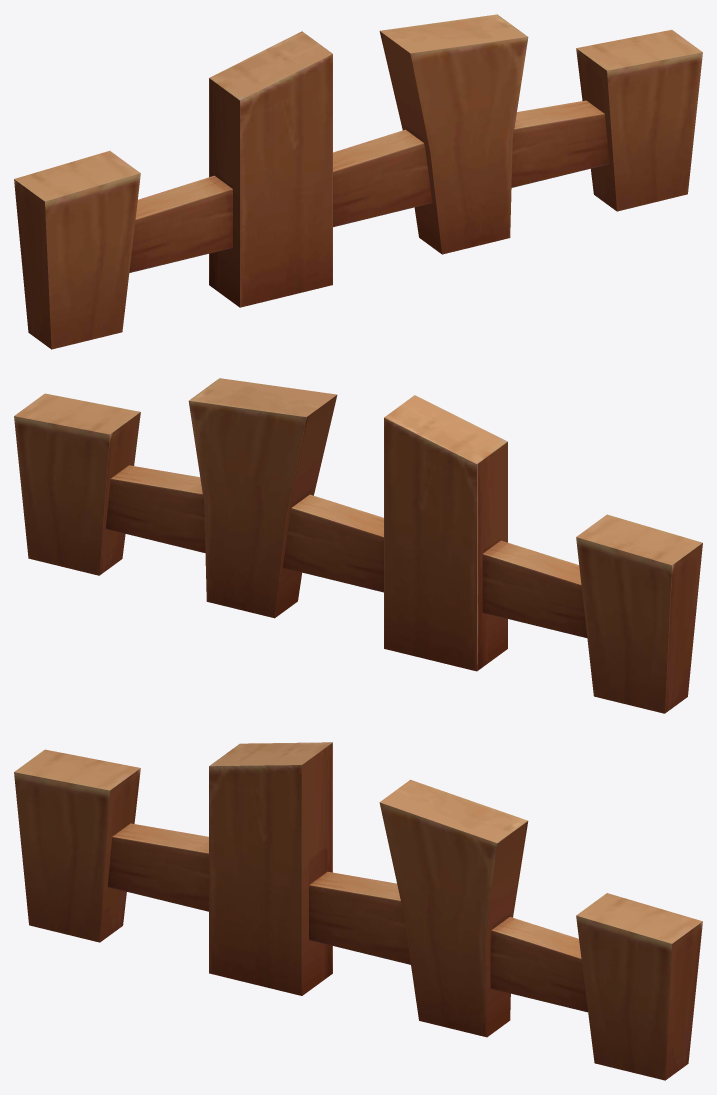
The model's file is ZhuCheng_LanGan_01.fbx.
3 views of the same model, one above another, from view 1: azimuth 30°, elevation 25°; view 2: azimuth 150°, elevation 25°; view 3: azimuth 330°, elevation 25° (orthographic).
Parts seen in each view (by area): view 1: ZhuCheng_LanGan_01; view 2: ZhuCheng_LanGan_01; view 3: ZhuCheng_LanGan_01.
Part boxes in pixels (box(x1,y1,x2,y2)): ZhuCheng_LanGan_01: box(14, 14, 702, 349); ZhuCheng_LanGan_01: box(14, 378, 702, 713); ZhuCheng_LanGan_01: box(14, 742, 702, 1080).
Size of the model in its own units: 1.67 by 0.5621 by 0.1364.
